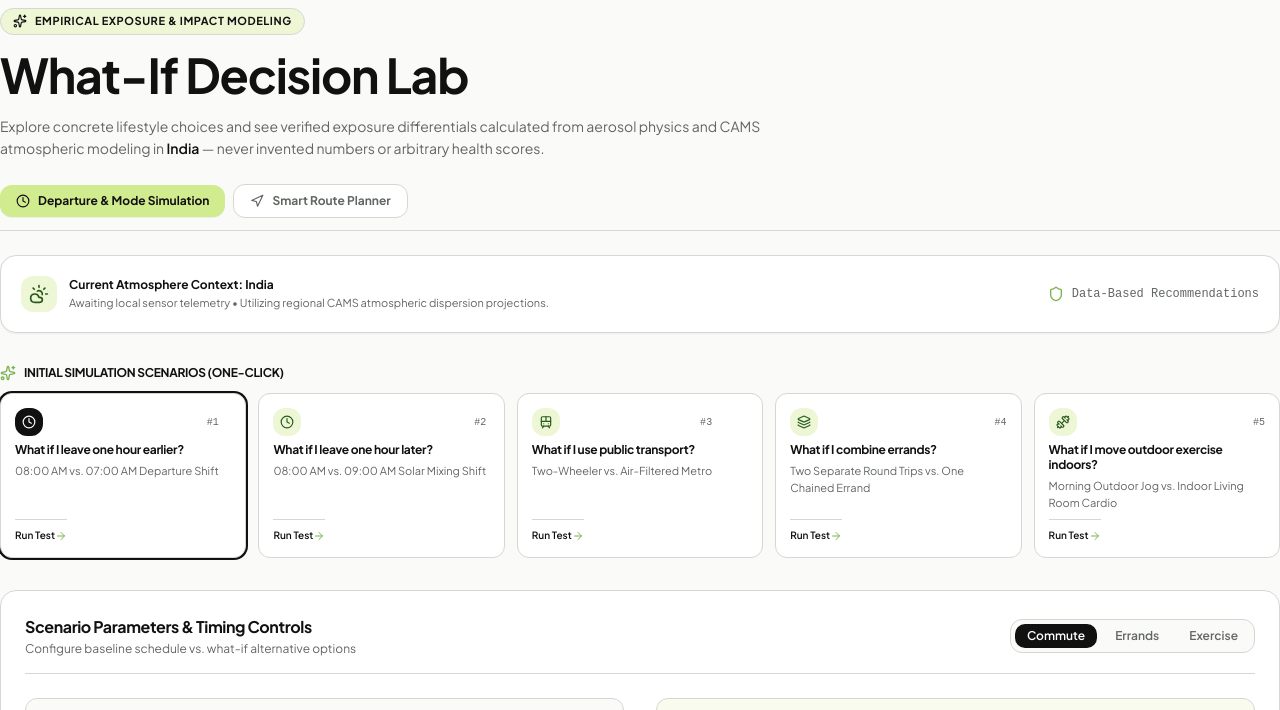
Scenario: What-If Decision Lab UI Page & Interactive Controls › switches active simulation scenario when a preset is clicked
What coordinates should you click on to do the following:
click the heading "What if I combine errands?"
I would click on:
 (863, 450)
Its box is [790,442,937,457].
(page scrolled)
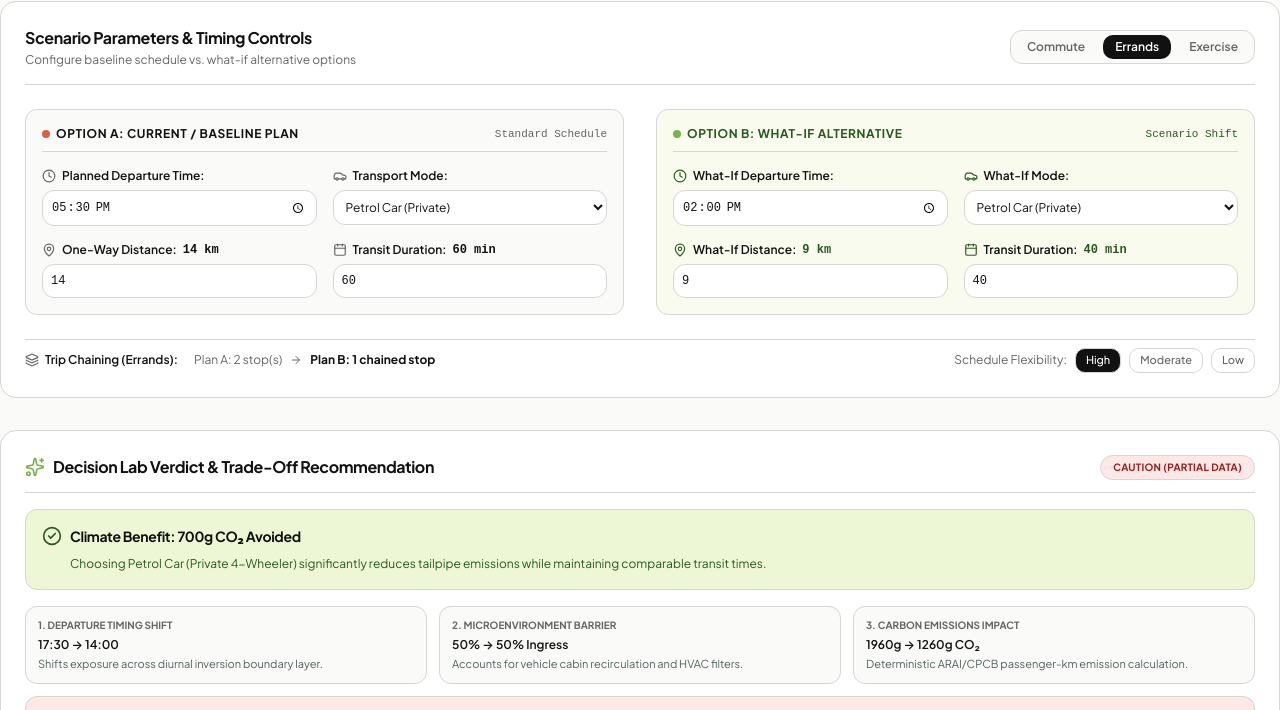
Check: the text "Plan B: 1 chained stop" is shown, box [310,352,435,368]
Check: the text "Plan A: 2 stop(s)" is shown, box [194,352,282,368]
